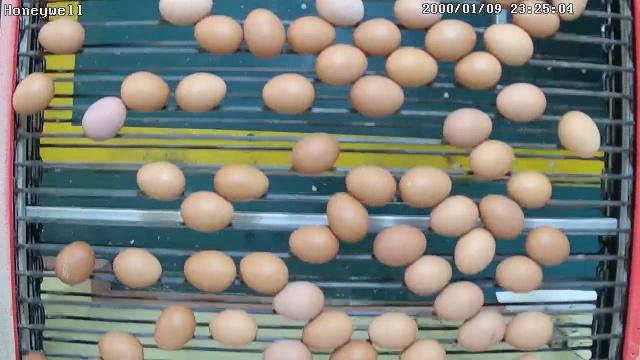egg: (183, 248, 238, 296), (178, 188, 236, 233), (314, 42, 370, 88), (326, 188, 371, 244), (372, 222, 428, 267), (423, 18, 477, 64), (398, 165, 453, 210), (348, 74, 405, 117), (482, 20, 534, 67), (384, 44, 438, 89), (344, 163, 398, 208), (270, 278, 325, 322), (239, 250, 290, 297), (118, 68, 170, 114), (174, 70, 228, 114), (262, 71, 316, 115), (432, 279, 486, 323), (242, 6, 286, 60), (478, 191, 525, 241), (556, 109, 602, 160), (428, 192, 479, 238), (302, 307, 354, 352), (495, 81, 548, 125), (287, 223, 341, 266), (212, 162, 270, 202), (452, 225, 498, 275), (111, 246, 163, 290), (80, 95, 128, 142), (152, 302, 197, 352), (456, 308, 507, 352), (192, 14, 245, 56), (441, 106, 494, 148), (404, 253, 453, 298), (290, 132, 340, 176), (135, 160, 187, 202), (352, 15, 402, 58), (504, 308, 554, 351), (11, 71, 56, 118), (452, 49, 502, 91), (511, 0, 562, 41), (284, 15, 336, 55), (208, 306, 260, 346), (367, 310, 419, 350), (468, 138, 516, 181), (525, 224, 571, 268), (504, 168, 552, 210), (38, 16, 88, 56), (496, 254, 544, 295), (54, 240, 96, 286), (98, 328, 146, 360)
